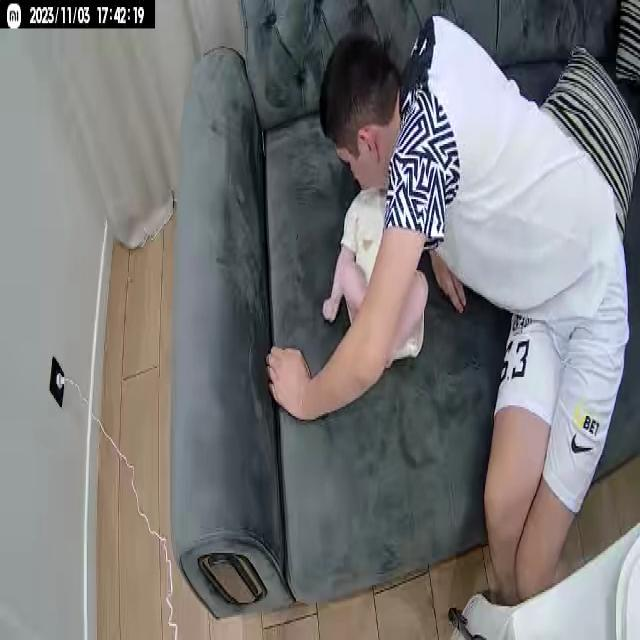baby: (320, 184, 430, 384)
